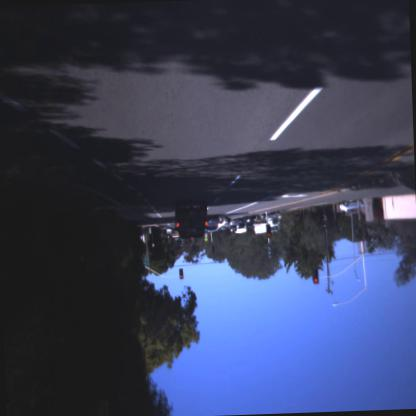trafficlight: (309, 264, 320, 286), (264, 220, 272, 240), (178, 266, 184, 282)
